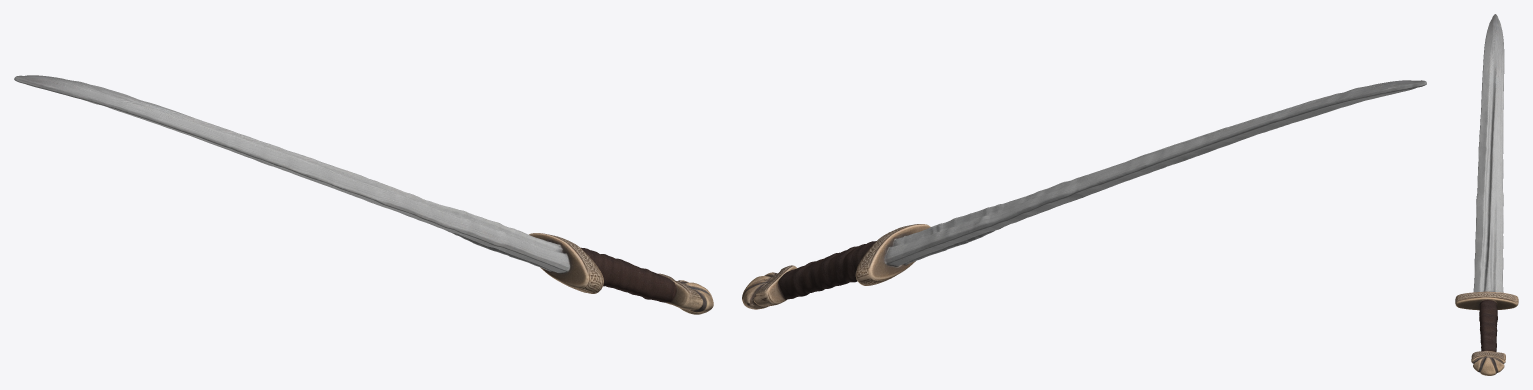
File: sword.glb
3 renders of one model, left to right at view 1: azimuth 30°, elevation 25°; view 2: azimuth 150°, elevation 25°; view 3: azimuth 270°, elevation 25°, orthographic. The views are drawn at different scales.
Parts seen in each view (by area): view 1: Mesh_0; view 2: Mesh_0; view 3: Mesh_0.
Part boxes in pixels (bbox=[...]): Mesh_0: bbox=[14, 75, 713, 314]; Mesh_0: bbox=[742, 80, 1426, 309]; Mesh_0: bbox=[1455, 14, 1518, 375].
Bounding box in the file's own units: 1.9 × 1.04 × 0.3029.
Materials: 1 (1 with a texture image).
